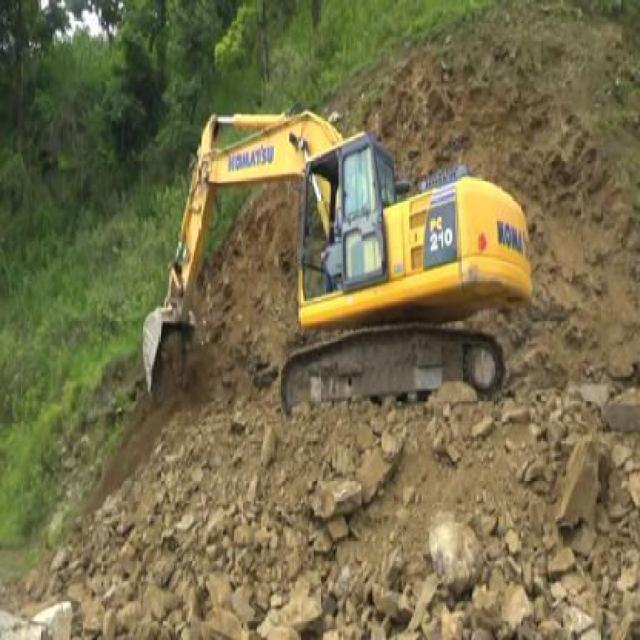Excavator: (138, 107, 534, 418)
